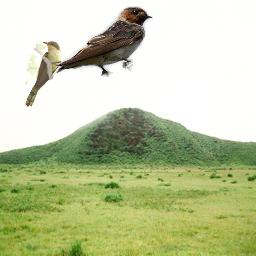Cuckoo: (25, 41, 61, 107)
Swallow: (53, 5, 153, 77)
